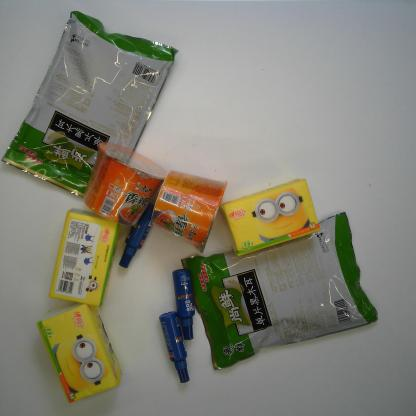Dried Food: (0, 8, 180, 199), (180, 211, 380, 372)
Instant Noodles: (82, 140, 167, 227), (150, 170, 228, 254)
Personal Hygiene: (118, 202, 156, 270), (158, 310, 190, 384), (171, 267, 196, 341)
Tissue: (34, 302, 122, 405), (218, 178, 322, 258), (48, 208, 120, 307)
